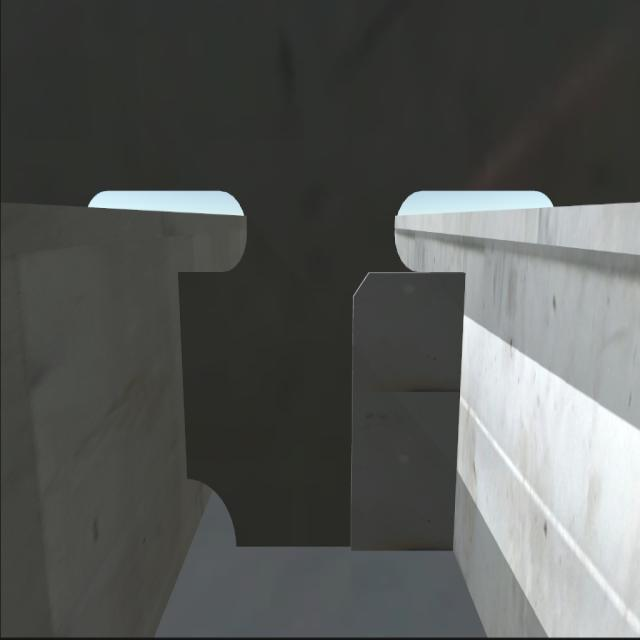fillet_hole: (190, 484, 237, 548)
fillet_yong_jeop_jang: (228, 533, 452, 559)
longi_yong_jeop_jang: (174, 268, 195, 480), (448, 265, 462, 555)
plate_CP03: (347, 266, 459, 550)
